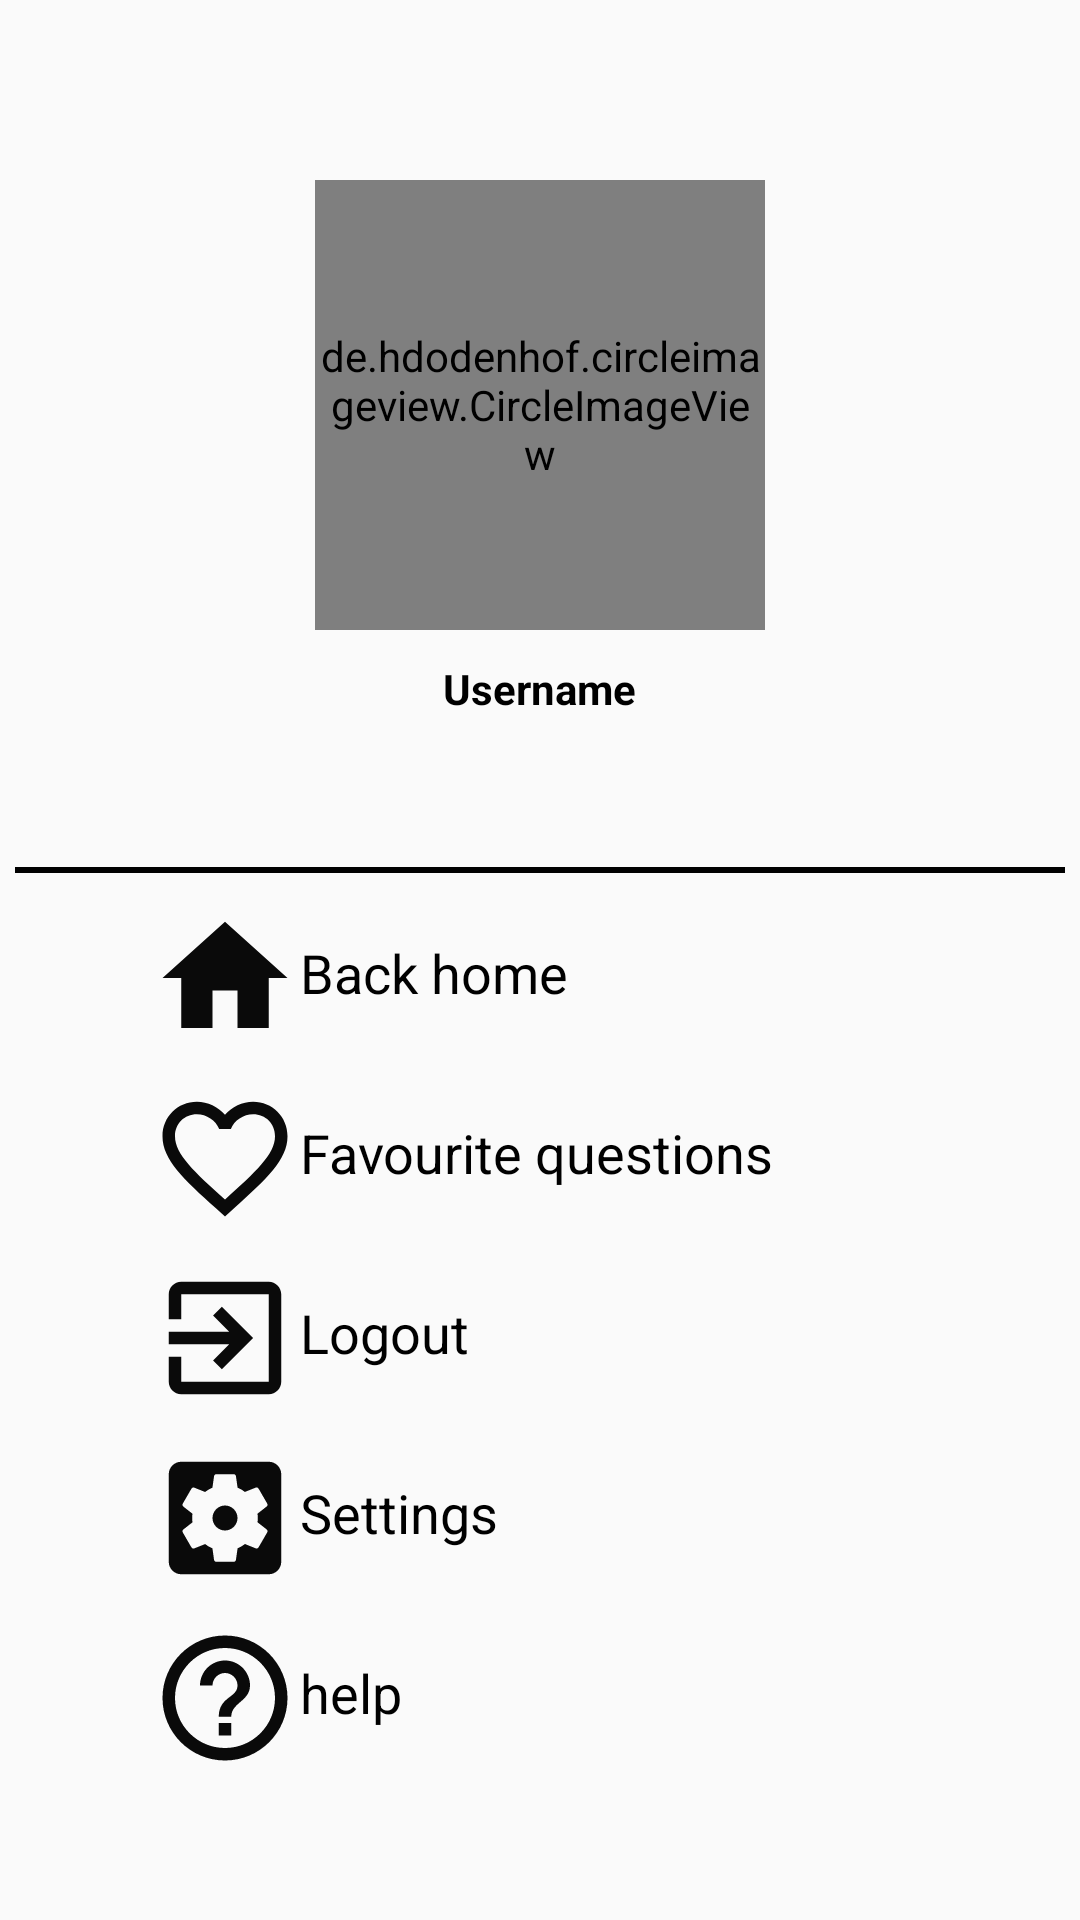

Screen size 1080×1920. Icon name, then its box in pixels as rect(x1, y1, x2, y2):
exit to app: rect(168, 1281, 282, 1395)
favorite border: rect(162, 1101, 288, 1217)
